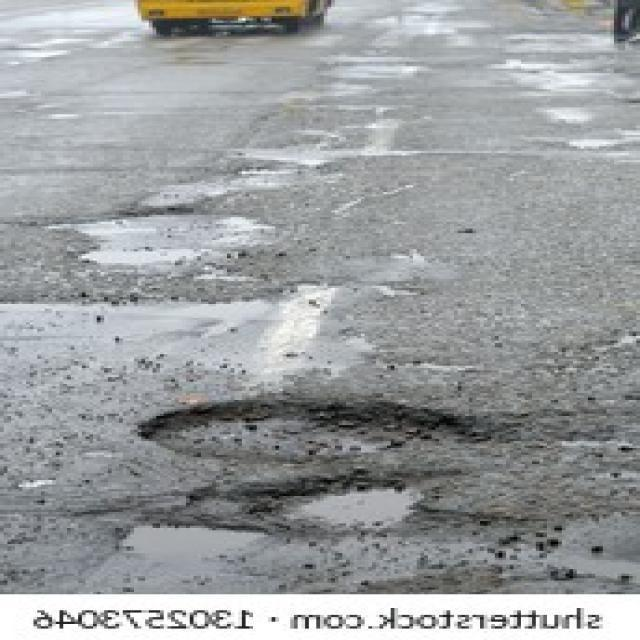pothole: (127, 400, 488, 464), (275, 476, 432, 533)
